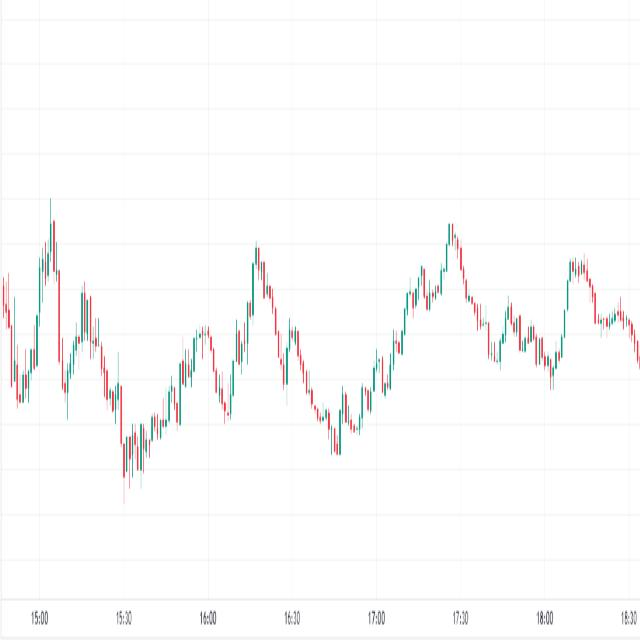Channel-up: (328, 195, 454, 507)
Rising-Wedge: (118, 302, 215, 544)
